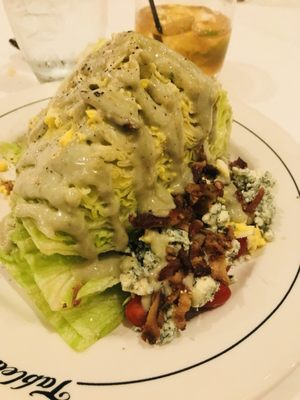pizza: (1, 0, 109, 82), (132, 0, 237, 80)
